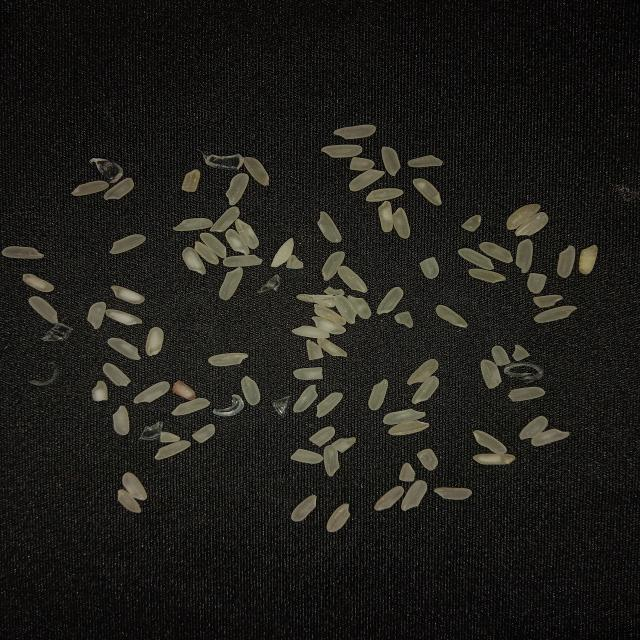Broken: (103, 363, 131, 387), (481, 359, 502, 388), (508, 386, 546, 402), (308, 426, 336, 447), (296, 294, 336, 308), (291, 448, 323, 464), (417, 448, 438, 471), (172, 380, 195, 400), (192, 424, 216, 443), (420, 257, 440, 279), (526, 272, 546, 294), (407, 155, 443, 167), (533, 294, 563, 308), (182, 169, 200, 192), (331, 437, 356, 453), (293, 367, 323, 380), (306, 339, 324, 360), (492, 346, 510, 366), (92, 380, 108, 402), (462, 215, 482, 232), (394, 311, 414, 328), (512, 344, 530, 362), (399, 462, 415, 482), (286, 255, 304, 269), (160, 432, 180, 442), (324, 286, 345, 295)
Full: (506, 204, 541, 230), (28, 296, 59, 324), (407, 359, 439, 386), (401, 480, 427, 512), (349, 169, 385, 192), (134, 381, 170, 404), (219, 267, 243, 301), (473, 430, 507, 454), (515, 212, 549, 236), (338, 266, 368, 293), (209, 206, 240, 232), (317, 211, 342, 243), (225, 173, 249, 206), (458, 248, 494, 270), (376, 287, 404, 315), (243, 157, 270, 186), (413, 178, 442, 205), (374, 485, 404, 511), (436, 304, 468, 328), (235, 218, 259, 250), (109, 234, 147, 254), (200, 232, 227, 260), (412, 376, 439, 404), (383, 408, 426, 425), (534, 306, 577, 323), (291, 494, 317, 522), (108, 338, 141, 360), (122, 472, 147, 501), (155, 440, 191, 460), (479, 242, 513, 263), (314, 304, 346, 326), (316, 392, 343, 418), (326, 504, 351, 532), (293, 384, 318, 412), (322, 251, 345, 281), (271, 238, 294, 268), (333, 124, 376, 140), (532, 428, 570, 446), (104, 178, 135, 200), (520, 416, 548, 440), (334, 295, 357, 324), (171, 398, 210, 415), (388, 420, 429, 436), (225, 229, 250, 255), (111, 285, 145, 304), (183, 247, 206, 275), (368, 379, 388, 410), (208, 352, 249, 367), (312, 316, 346, 334), (105, 309, 143, 325), (320, 144, 363, 158), (381, 146, 401, 176), (347, 295, 372, 319), (558, 245, 576, 278), (72, 180, 109, 196), (469, 268, 506, 284), (579, 244, 598, 275), (241, 376, 261, 405), (22, 274, 54, 292), (392, 207, 410, 239), (118, 489, 142, 513), (318, 338, 348, 357), (145, 327, 164, 356), (2, 246, 44, 259), (323, 444, 340, 476), (516, 239, 532, 273), (87, 301, 106, 329), (366, 188, 404, 202), (173, 218, 213, 231), (113, 406, 130, 436), (223, 255, 262, 268), (473, 453, 515, 465), (378, 200, 393, 233), (434, 487, 472, 500), (292, 325, 330, 338)
